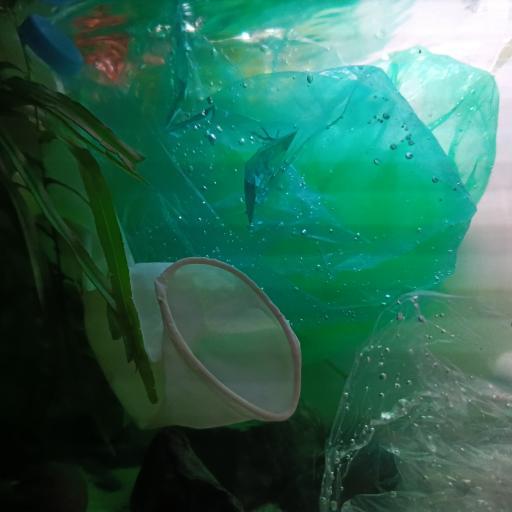bottle_cap: (18, 13, 85, 79)
glove: (37, 190, 303, 430)
plastic_bag: (61, 0, 499, 331), (320, 291, 512, 512)
